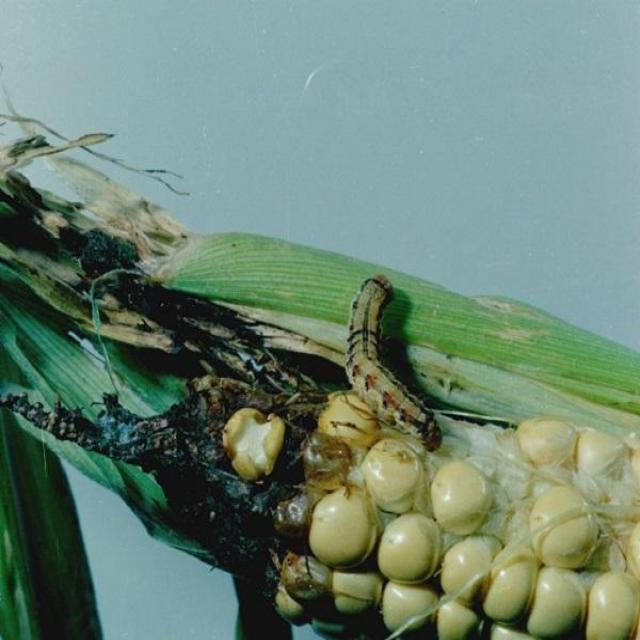cornborer-Larva-: (327, 262, 456, 462)
